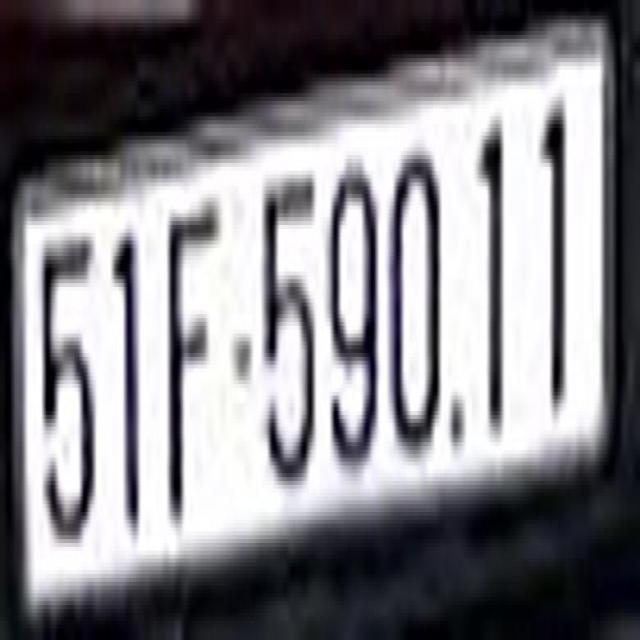0: (388, 147, 440, 450)
1: (112, 225, 146, 539), (478, 116, 506, 442), (543, 90, 568, 434)
5: (36, 221, 98, 543), (262, 178, 316, 485)
9: (328, 155, 377, 481)
F: (167, 198, 221, 512)
